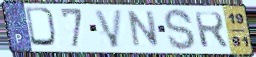7: (59, 6, 85, 49)
D: (23, 6, 61, 50)
N: (126, 9, 161, 49)
R: (192, 10, 230, 50)
S: (162, 7, 198, 52)
V: (92, 8, 125, 49)
